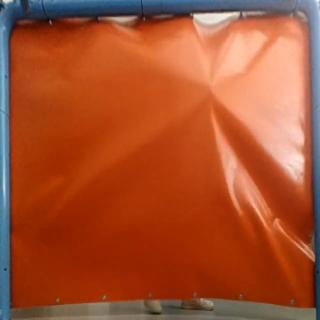Hit-hRxx: (200, 80, 216, 96)
